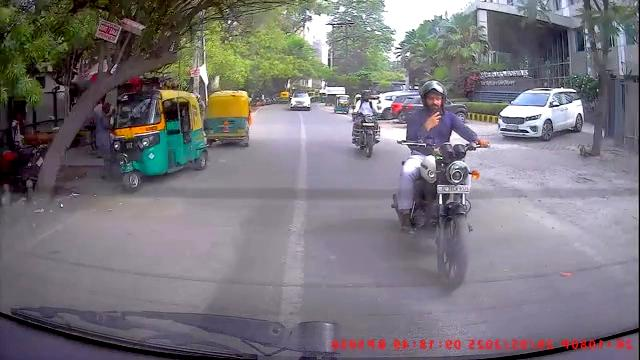motorcycle_with_helmet: (388, 77, 491, 289), (350, 87, 382, 163)
